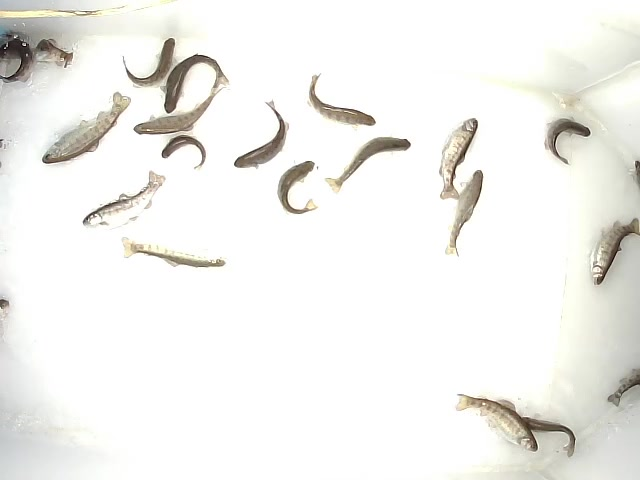fish: (40, 89, 132, 166), (323, 135, 412, 196), (81, 169, 167, 232), (453, 392, 538, 454), (133, 85, 227, 136), (159, 53, 229, 114), (306, 73, 376, 132), (233, 98, 290, 169), (587, 216, 640, 287), (121, 235, 227, 270), (444, 169, 484, 258), (438, 117, 479, 202), (512, 414, 577, 460), (121, 37, 176, 87), (543, 114, 592, 167), (277, 159, 319, 216), (161, 135, 207, 171)
